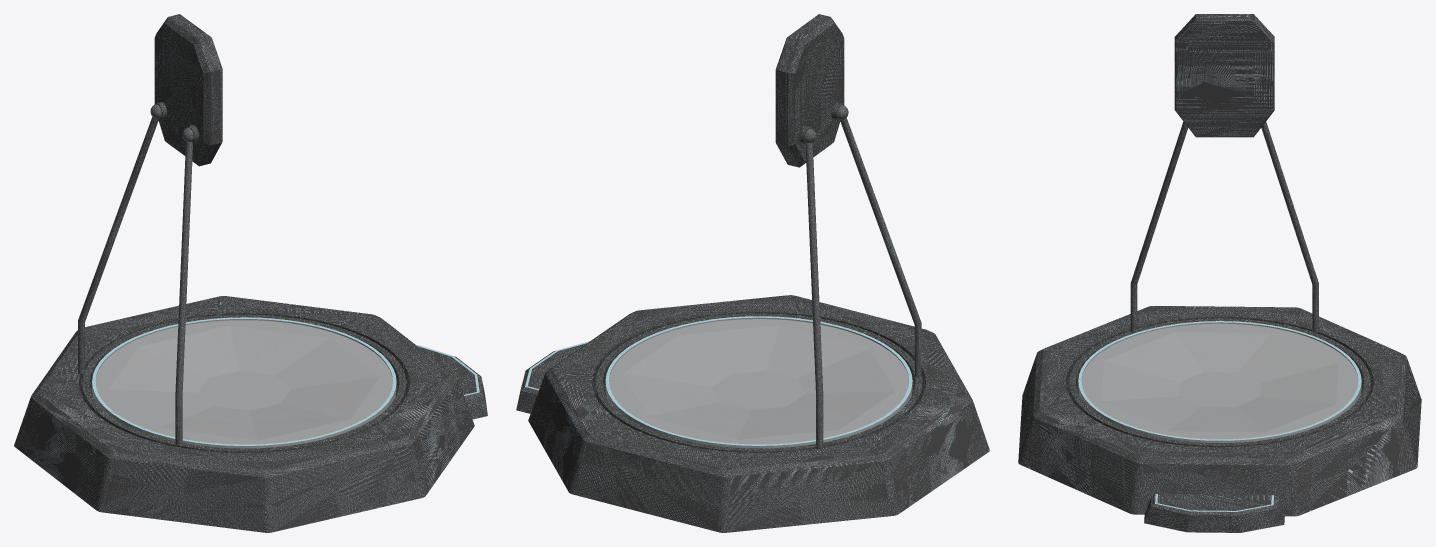
Rendered from treadmill.dae.
3 views of the same model, side by side, from view 1: azimuth 30°, elevation 25°; view 2: azimuth 150°, elevation 25°; view 3: azimuth 270°, elevation 25° (orthographic). The views are drawn at different scales.
Visible parts, largest first — view 1: group_2 (×2), group_1 (×3), group_4, group_0 (×2), group_7, group_6, group_9; view 2: group_2 (×2), group_1 (×3), group_4, group_0 (×2), group_6, group_7, group_9; view 3: group_2 (×2), group_1 (×3), group_4, group_9, group_0 (×2), group_7, group_6.
Boxes of the visible parts, x1=… form: group_2 (×2): x1=14, y1=296, x2=474, y2=532; group_1 (×3): x1=92, y1=317, x2=396, y2=448; group_4: x1=154, y1=14, x2=222, y2=166; group_0 (×2): x1=82, y1=314, x2=406, y2=452; group_7: x1=175, y1=141, x2=192, y2=445; group_6: x1=78, y1=117, x2=158, y2=373; group_9: x1=418, y1=346, x2=487, y2=419; group_2 (×2): x1=528, y1=295, x2=989, y2=532; group_1 (×3): x1=605, y1=316, x2=912, y2=448; group_4: x1=775, y1=14, x2=844, y2=167; group_0 (×2): x1=595, y1=313, x2=922, y2=452; group_6: x1=805, y1=142, x2=823, y2=449; group_7: x1=840, y1=118, x2=921, y2=377; group_9: x1=516, y1=343, x2=586, y2=413; group_2 (×2): x1=1018, y1=306, x2=1421, y2=516; group_1 (×3): x1=1078, y1=321, x2=1361, y2=442; group_4: x1=1174, y1=14, x2=1274, y2=137; group_9: x1=1144, y1=494, x2=1284, y2=532; group_0 (×2): x1=1069, y1=318, x2=1370, y2=447; group_7: x1=1130, y1=121, x2=1188, y2=332; group_6: x1=1261, y1=121, x2=1318, y2=332.
Bounding box in the file's own units: 64.5 × 58.78 × 62.81.
